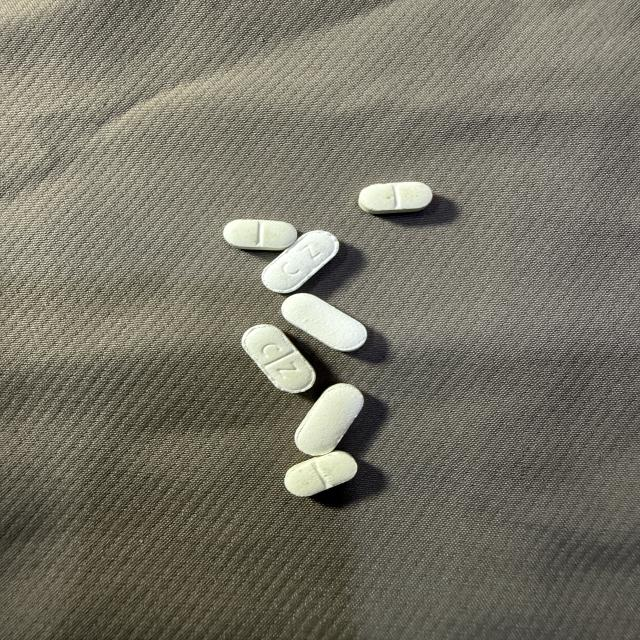pill: (242, 325, 315, 393), (295, 384, 363, 455), (282, 294, 366, 351), (262, 231, 338, 293), (285, 451, 357, 496), (359, 182, 432, 214), (224, 219, 297, 250)
